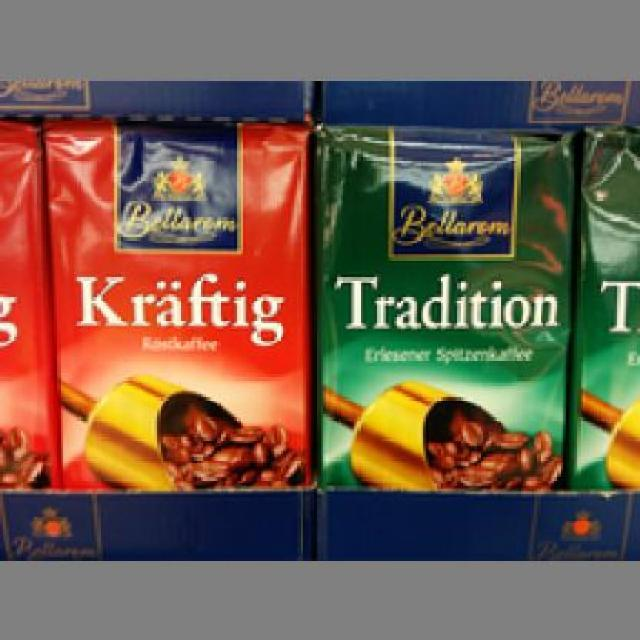Coffee: (39, 114, 315, 486), (312, 120, 572, 483)
